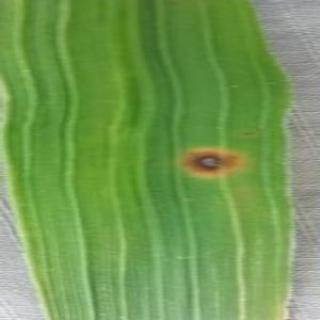bercak-Cokelat: (180, 134, 238, 183)
